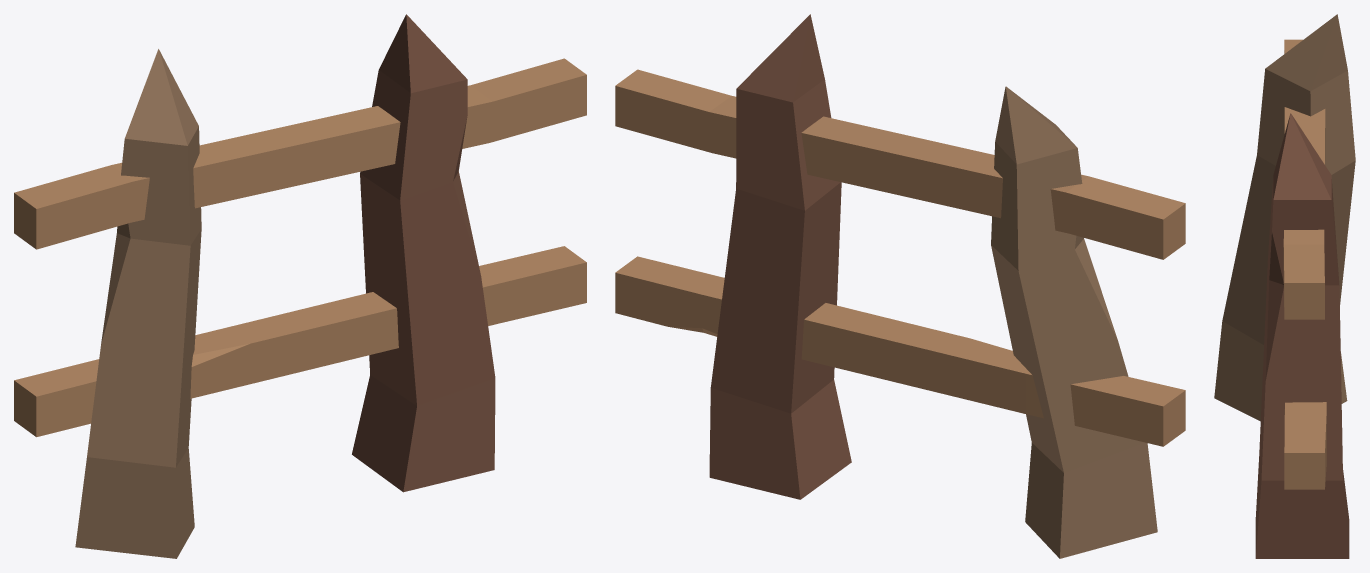
The model's file is fence_2.glb.
The picture shows the model from 3 angles, left to right: view 1: azimuth 30°, elevation 25°; view 2: azimuth 150°, elevation 25°; view 3: azimuth 270°, elevation 25°; orthographic projection. The views are drawn at different scales.
Parts seen in each view (by area): view 1: fence_2; view 2: fence_2; view 3: fence_2.
Boxes of the visible parts, <box> form: fence_2: <box>14,14,586,558</box>; fence_2: <box>615,14,1185,558</box>; fence_2: <box>1214,14,1355,558</box>.
Size of the model in its own units: 4 by 3.2 by 0.983.
